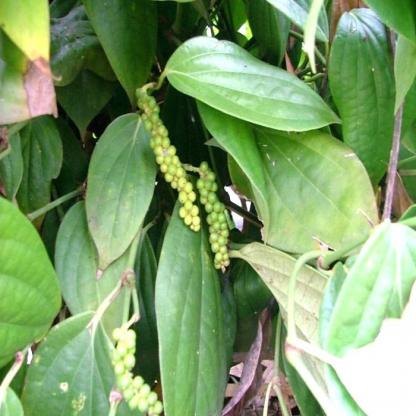bell pepper leaf: (237, 113, 383, 261), (165, 31, 346, 144), (155, 181, 238, 415), (87, 112, 159, 270), (27, 314, 137, 415)
